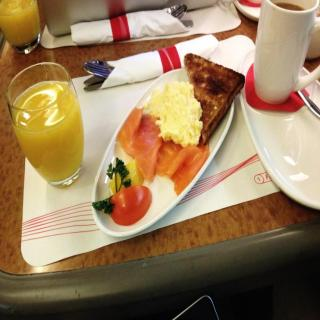tomato: (109, 185, 153, 225)
